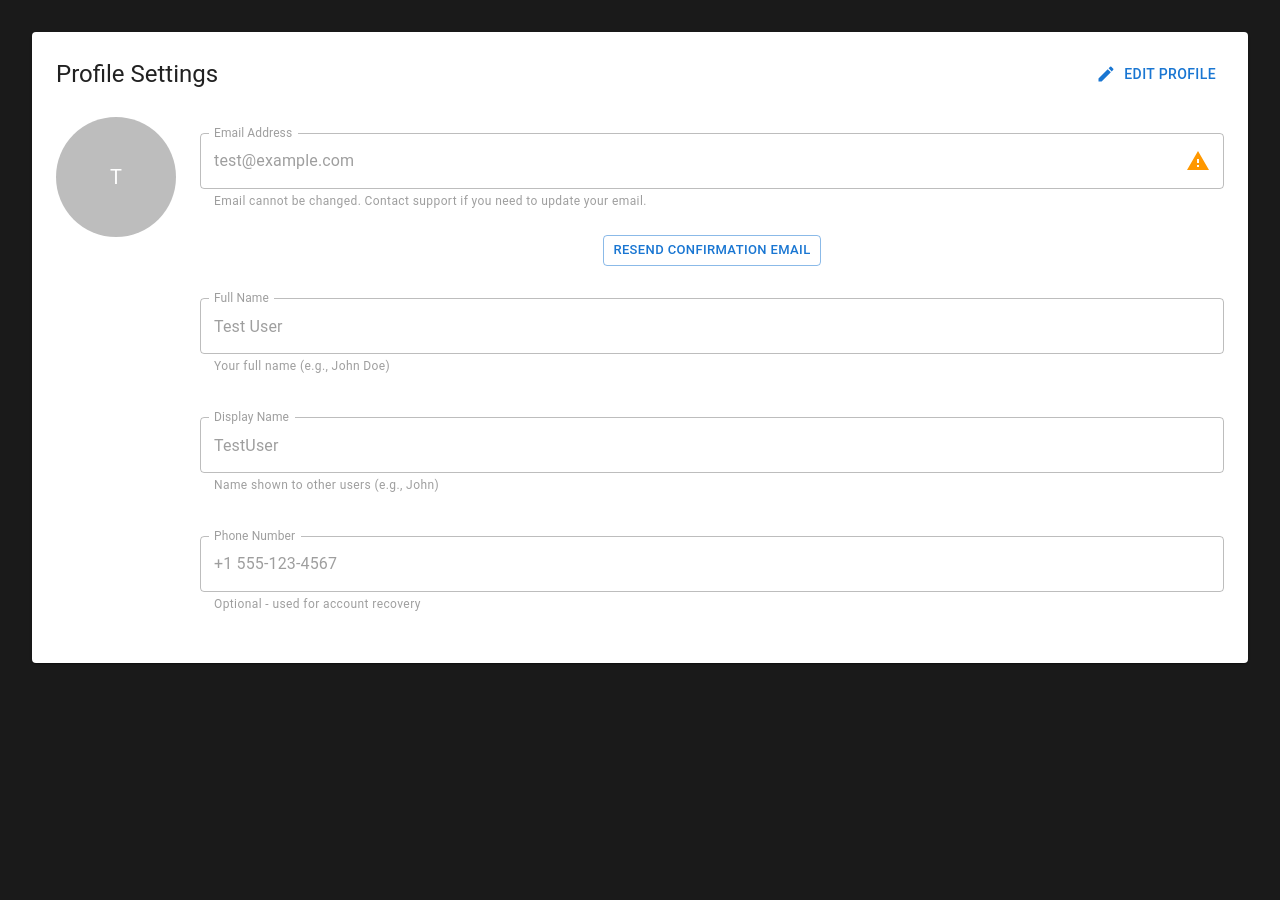
ProfileSettings › email verification status › should show success message after resending confirmation email
Click the button "Resend Confirmation Email" at (712, 251), box [603,235,821,266]
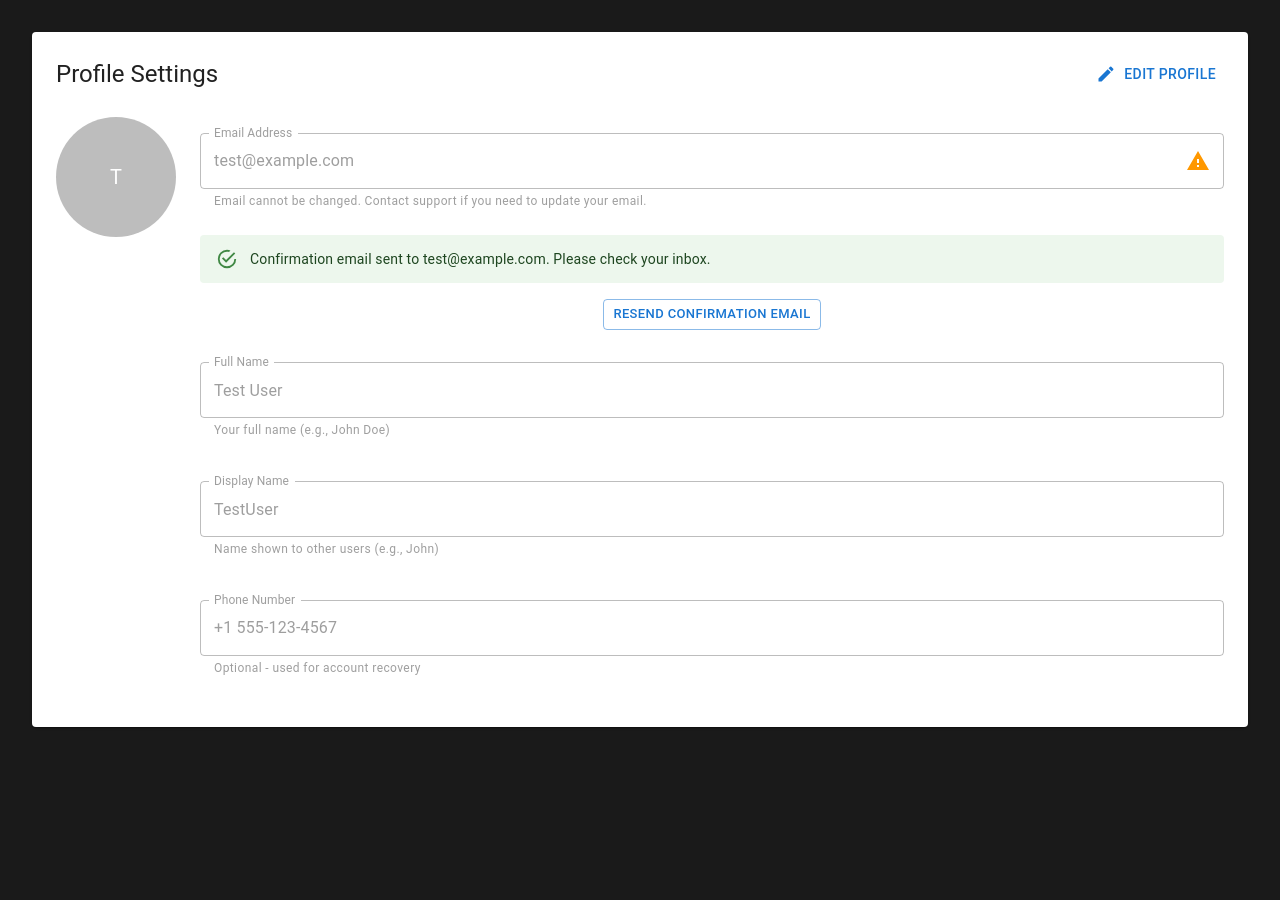
expect the text "Confirmation email sent" is shown: met, box [250,251,423,267]
